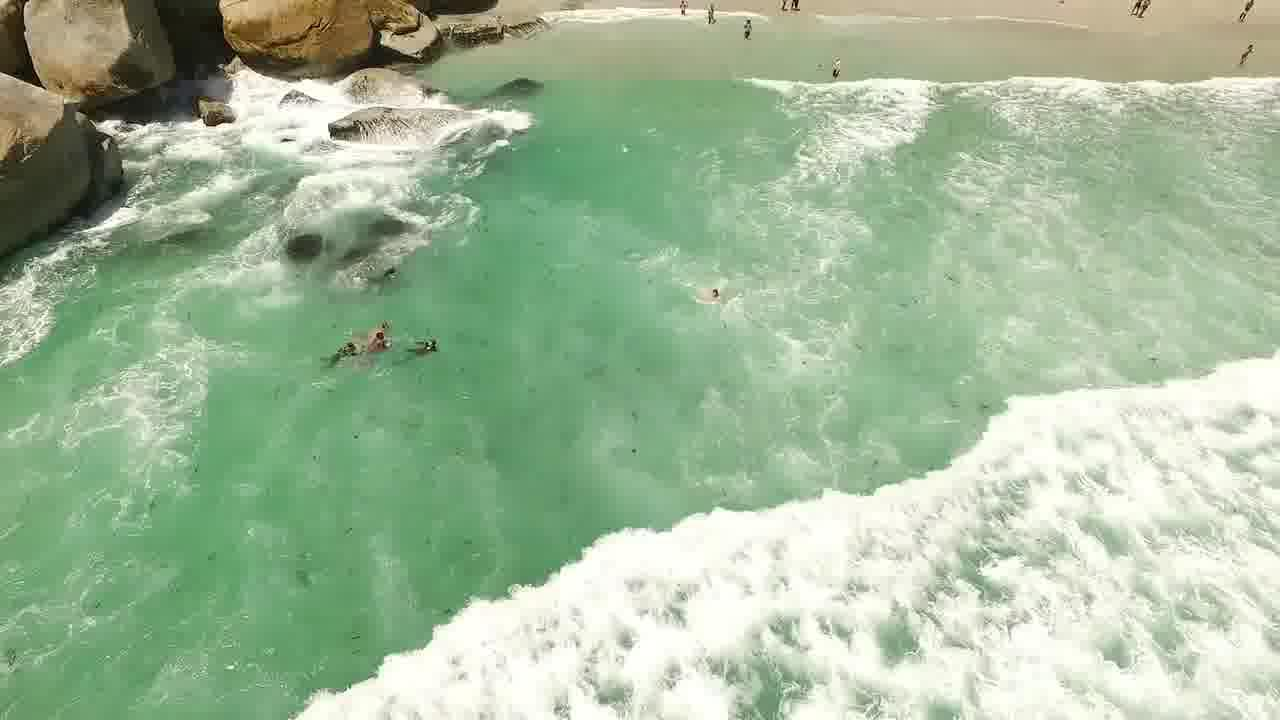swimmer: (402, 335, 451, 364), (692, 284, 737, 313), (325, 339, 371, 367), (362, 328, 397, 364)
